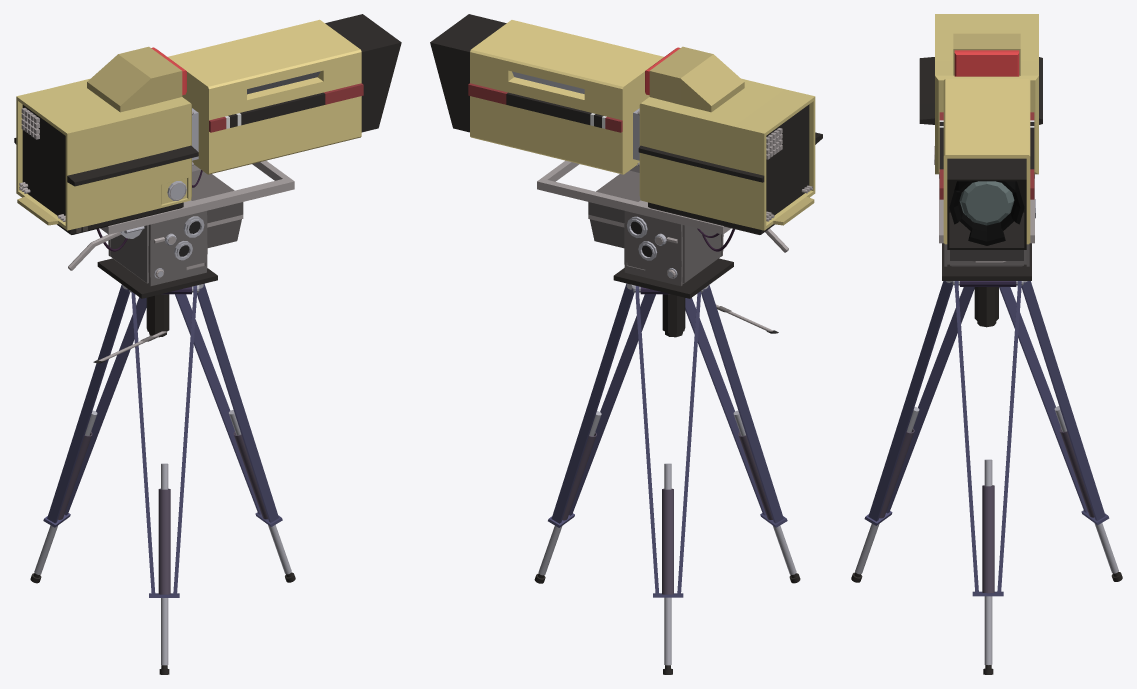
The model's file is Camara.glb.
The picture shows the model from 3 angles, left to right: view 1: azimuth 30°, elevation 25°; view 2: azimuth 150°, elevation 25°; view 3: azimuth 270°, elevation 25°; orthographic projection.
Parts seen in each view (by area): view 1: Camara1, Camara2, PivoteCamara, PiernaTripode2, PiernaTripode1, PiernaTripode3, BaseCamara, Tripode, EncajeTripode3, PerillasPivoteCamara, PataTripode3, PataTripode2 (+3 smaller); view 2: Camara1, Camara2, PivoteCamara, PiernaTripode2, PiernaTripode3, PiernaTripode1, Tripode, BaseCamara, EncajeTripode1, PerillasPivoteCamara, PataTripode1, PataTripode3 (+3 smaller); view 3: Camara2, Camara1, PiernaTripode1, PiernaTripode3, LenteCamara, PiernaTripode2, Tripode, PivoteCamara, EncajeTripode2, PataTripode2, PataTripode3, PataTripode1 (+3 smaller).
Boxes of the visible parts, x1,y1,x2,y2 form: Camara1: [14, 46, 198, 234]; Camara2: [168, 14, 401, 174]; PivoteCamara: [108, 169, 243, 286]; PiernaTripode2: [175, 283, 282, 526]; PiernaTripode1: [43, 284, 146, 527]; PiernaTripode3: [129, 285, 199, 597]; BaseCamara: [100, 160, 294, 234]; Tripode: [97, 258, 217, 337]; EncajeTripode3: [158, 488, 170, 594]; PerillasPivoteCamara: [154, 216, 204, 278]; PataTripode3: [159, 463, 169, 674]; PataTripode2: [229, 410, 295, 582]; Camara1: [633, 46, 822, 234]; Camara2: [430, 14, 663, 174]; PivoteCamara: [588, 170, 723, 286]; PiernaTripode2: [548, 283, 655, 527]; PiernaTripode3: [685, 285, 787, 527]; PiernaTripode1: [633, 285, 703, 597]; Tripode: [613, 258, 733, 337]; BaseCamara: [537, 160, 731, 234]; EncajeTripode1: [662, 488, 673, 594]; PerillasPivoteCamara: [627, 216, 677, 278]; PataTripode1: [663, 463, 672, 674]; PataTripode3: [733, 410, 800, 583]; Camara2: [939, 79, 1034, 249]; Camara1: [919, 14, 1042, 178]; PiernaTripode1: [999, 281, 1109, 525]; PiernaTripode3: [864, 281, 974, 525]; LenteCamara: [949, 181, 1024, 245]; PiernaTripode2: [952, 281, 1023, 596]; Tripode: [942, 243, 1031, 327]; PivoteCamara: [944, 244, 1029, 266]; EncajeTripode2: [982, 485, 994, 593]; PataTripode2: [983, 459, 993, 674]; PataTripode3: [851, 407, 919, 582]; PataTripode1: [1054, 406, 1122, 581].
Size of the model in its own units: 17.22 by 26.09 by 11.37.
